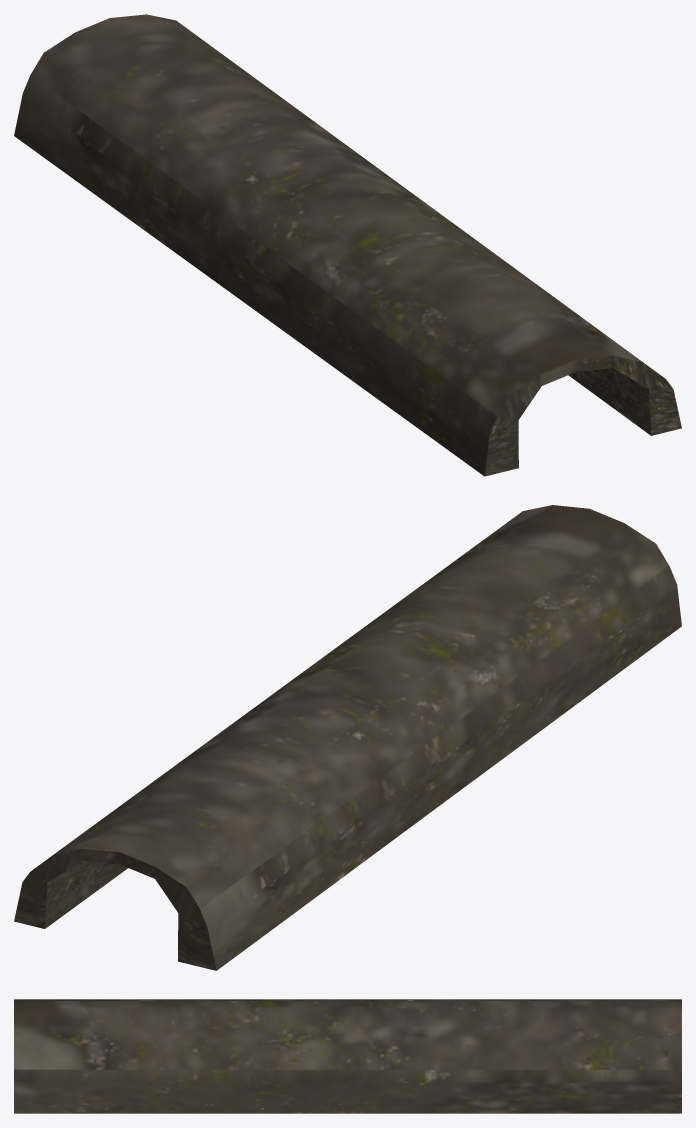
Rendered from CeilingStraight.fbx.
3 views of the same model, one above another, from view 1: azimuth 30°, elevation 25°; view 2: azimuth 150°, elevation 25°; view 3: azimuth 270°, elevation 25° (orthographic). The views are drawn at different scales.
Parts seen in each view (by area): view 1: polySurface26; view 2: polySurface26; view 3: polySurface26.
Part boxes in pixels (x1=…): polySurface26: x1=14, y1=14, x2=681, y2=476; polySurface26: x1=14, y1=505, x2=681, y2=970; polySurface26: x1=14, y1=999, x2=681, y2=1113.
Size of the model in its own units: 859 by 385 by 3450.
1 material, 1 textured.
